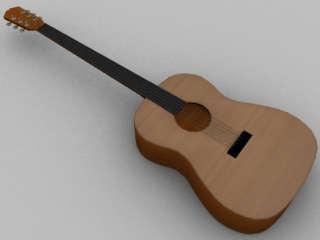guitar: (3, 5, 320, 236)
